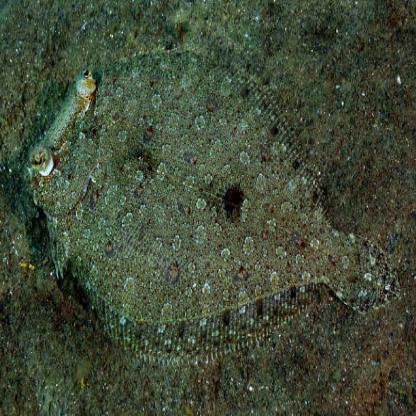flounder: (23, 36, 395, 372)
